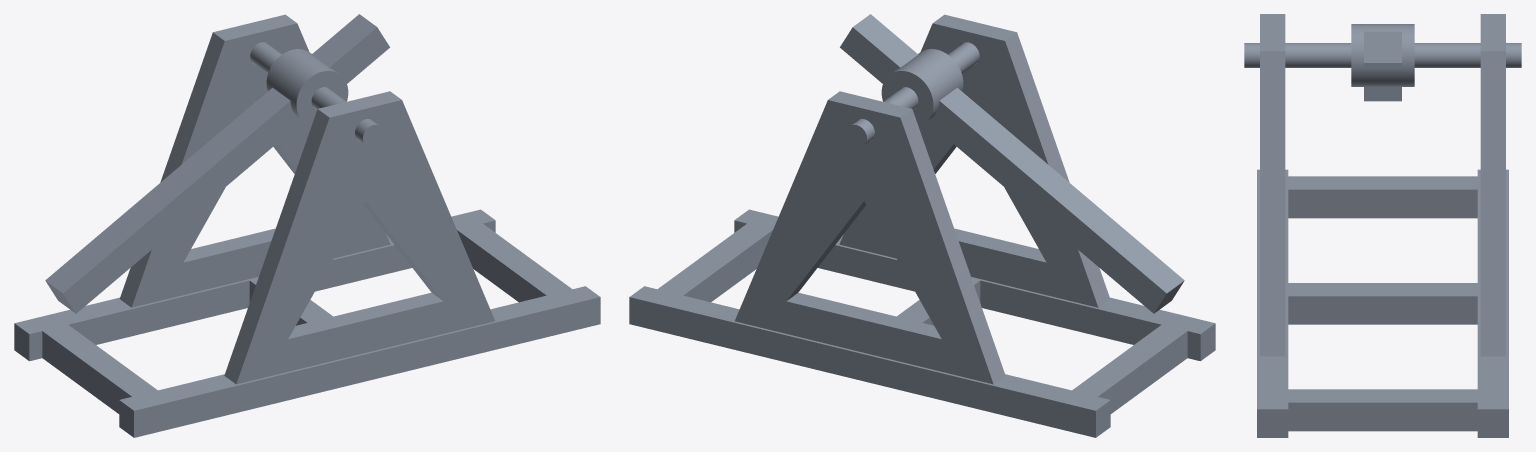
The model's file is step-3.glb.
3 renders of one model, left to right at view 1: azimuth 30°, elevation 25°; view 2: azimuth 150°, elevation 25°; view 3: azimuth 270°, elevation 25°, orthographic. The views are drawn at different scales.
Visible parts, largest first — view 1: face_34d923c5cc0273aa6e75, face_5b95a24020a418d23f3b, face_d85b668a0006ba6affbe, face_e8b85afa708fb4fee940, face_d169b7d3875214d54722, face_13b3d2e129ec6e483a8b, face_b6fab3d4a9dbbcaf1519, face_fb8887bba764df91bad6, face_3c0834110e3bc344f8e5, face_246edf2abe85ad273bca, face_3e9cd110ecaf1841d03a, face_24cc83ecb742e0211476 (+9 smaller); view 2: face_ef5056151f815182bda0, face_fe4e841fd695f834da92, face_80b5e0dae24f9436188f, face_e8b85afa708fb4fee940, face_4eec5b49c1f6f86e5da5, face_13b3d2e129ec6e483a8b, face_bc4d6481ef769fb29cba, face_3c0834110e3bc344f8e5, face_fb8887bba764df91bad6, face_246edf2abe85ad273bca, face_bf1306e5727f1e8a53bb, face_24cc83ecb742e0211476 (+9 smaller); view 3: face_e8b85afa708fb4fee940, face_7a4d995620524e4ab61b, face_5c6a311c84a0fef03e59, face_eaa270c082d40c3f3501, face_14de0b3180eca4220d2a, face_f7f6948fa4251880c2cf, face_be33e1bf23d48bf20ae8, face_24cc83ecb742e0211476, face_1927544f3049aa16dba8, face_1005296317179e802ba1, face_3ebdc74f41b9cd34a261, face_27a02da4b4b9ff2baa63 (+2 smaller).
Boxes of the visible parts, bbox=[...] form: face_34d923c5cc0273aa6e75: bbox=[236, 100, 494, 384]; face_5b95a24020a418d23f3b: bbox=[131, 23, 390, 307]; face_d85b668a0006ba6affbe: bbox=[134, 297, 600, 437]; face_e8b85afa708fb4fee940: bbox=[15, 209, 599, 410]; face_d169b7d3875214d54722: bbox=[63, 101, 302, 313]; face_13b3d2e129ec6e483a8b: bbox=[45, 87, 290, 293]; face_b6fab3d4a9dbbcaf1519: bbox=[68, 280, 249, 344]; face_fb8887bba764df91bad6: bbox=[224, 109, 329, 383]; face_3c0834110e3bc344f8e5: bbox=[119, 32, 224, 307]; face_246edf2abe85ad273bca: bbox=[42, 331, 131, 413]; face_3e9cd110ecaf1841d03a: bbox=[315, 245, 411, 291]; face_24cc83ecb742e0211476: bbox=[266, 49, 337, 120]; face_ef5056151f815182bda0: bbox=[735, 100, 993, 384]; face_fe4e841fd695f834da92: bbox=[839, 23, 1098, 307]; face_80b5e0dae24f9436188f: bbox=[629, 297, 1095, 437]; face_e8b85afa708fb4fee940: bbox=[630, 209, 1214, 410]; face_4eec5b49c1f6f86e5da5: bbox=[927, 101, 1166, 313]; face_13b3d2e129ec6e483a8b: bbox=[939, 87, 1184, 293]; face_bc4d6481ef769fb29cba: bbox=[980, 280, 1161, 344]; face_3c0834110e3bc344f8e5: bbox=[900, 109, 1005, 383]; face_fb8887bba764df91bad6: bbox=[1005, 32, 1110, 307]; face_246edf2abe85ad273bca: bbox=[1098, 331, 1187, 413]; face_bf1306e5727f1e8a53bb: bbox=[818, 245, 914, 291]; face_24cc83ecb742e0211476: bbox=[892, 49, 963, 120]; face_e8b85afa708fb4fee940: bbox=[1257, 169, 1508, 409]; face_7a4d995620524e4ab61b: bbox=[1480, 51, 1505, 356]; face_5c6a311c84a0fef03e59: bbox=[1260, 51, 1285, 356]; face_eaa270c082d40c3f3501: bbox=[1288, 402, 1477, 431]; face_14de0b3180eca4220d2a: bbox=[1288, 189, 1477, 218]; face_f7f6948fa4251880c2cf: bbox=[1288, 296, 1477, 324]; face_be33e1bf23d48bf20ae8: bbox=[1244, 43, 1521, 67]; face_24cc83ecb742e0211476: bbox=[1351, 24, 1414, 86]; face_1927544f3049aa16dba8: bbox=[1364, 31, 1401, 62]; face_1005296317179e802ba1: bbox=[1480, 14, 1505, 51]; face_3ebdc74f41b9cd34a261: bbox=[1260, 14, 1285, 51]; face_27a02da4b4b9ff2baa63: bbox=[1257, 409, 1288, 437].
Bounding box in the file's own units: 0.1878 × 0.1113 × 0.088.
